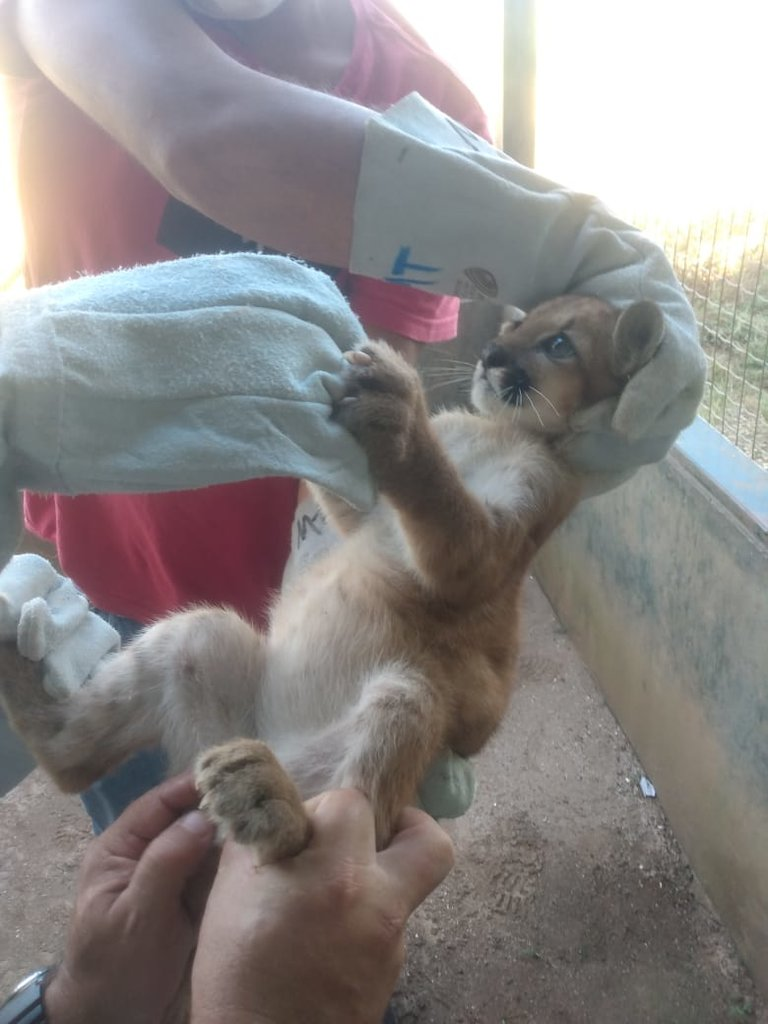OncaParda: (69, 294, 665, 853)
